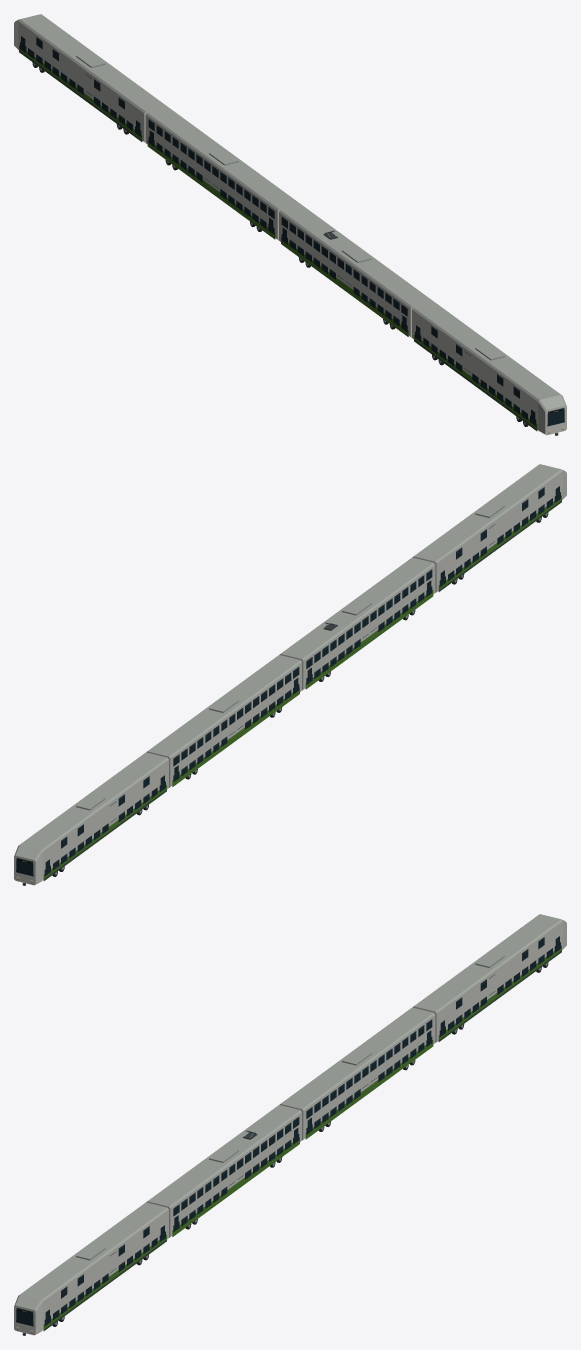
The model's file is odeg-kiss.glb.
3 renders of one model, top to bottom at view 1: azimuth 30°, elevation 25°; view 2: azimuth 150°, elevation 25°; view 3: azimuth 330°, elevation 25°, orthographic.
Visible parts, largest first — view 1: odeg-kiss.segment-01.005, odeg-kiss.segment-03.005, odeg-kiss.segment-02.005, odeg-kiss.segment-04.005; view 2: odeg-kiss.segment-04.005, odeg-kiss.segment-02.005, odeg-kiss.segment-03.005, odeg-kiss.segment-01.005; view 3: odeg-kiss.segment-01.005, odeg-kiss.segment-03.005, odeg-kiss.segment-02.005, odeg-kiss.segment-04.005.
Boxes of the visible parts, box(x1,y1,x2,y2) form: odeg-kiss.segment-01.005: box(412, 302, 566, 435); odeg-kiss.segment-03.005: box(145, 107, 301, 240); odeg-kiss.segment-02.005: box(279, 205, 434, 337); odeg-kiss.segment-04.005: box(14, 14, 168, 142); odeg-kiss.segment-04.005: box(14, 752, 168, 885); odeg-kiss.segment-02.005: box(279, 557, 435, 690); odeg-kiss.segment-03.005: box(146, 655, 301, 787); odeg-kiss.segment-01.005: box(412, 464, 566, 592); odeg-kiss.segment-01.005: box(14, 1202, 168, 1335); odeg-kiss.segment-03.005: box(279, 1007, 435, 1140); odeg-kiss.segment-02.005: box(146, 1105, 301, 1237); odeg-kiss.segment-04.005: box(412, 914, 566, 1042).
Bounding box in the file's own units: 2.85 × 4.56 × 106.
